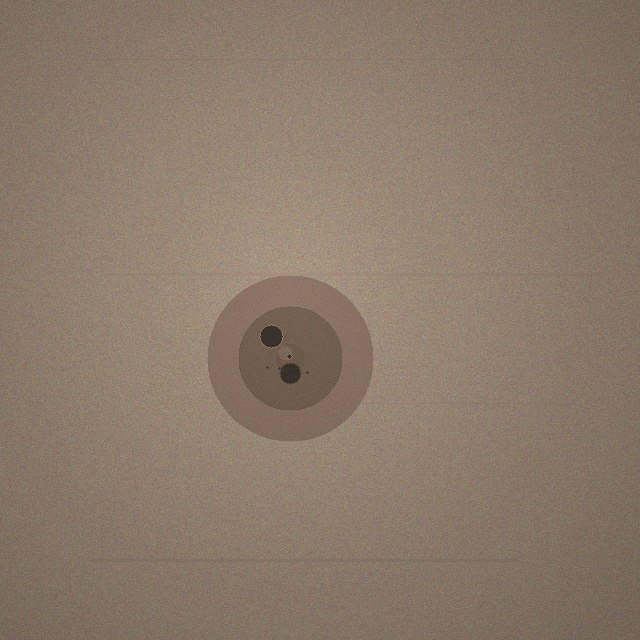shrinkage: (207, 275, 373, 441)
